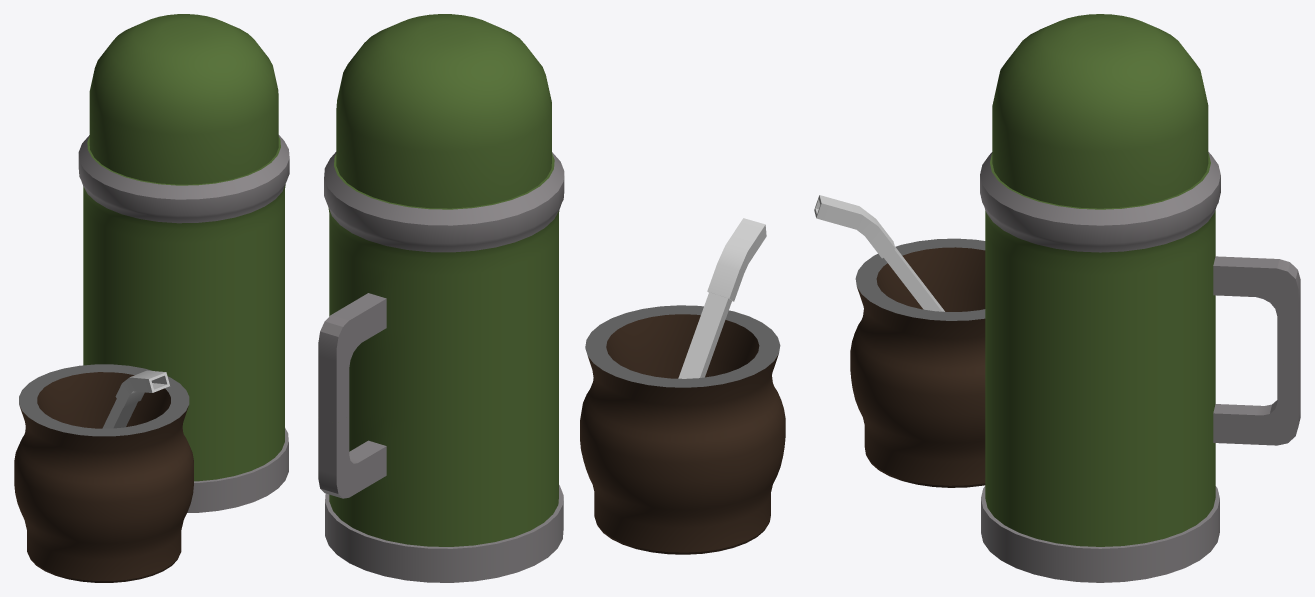
File: Termo y mate.fbx
3 renders of one model, left to right at view 1: azimuth 30°, elevation 25°; view 2: azimuth 150°, elevation 25°; view 3: azimuth 270°, elevation 25°, orthographic. The views are drawn at different scales.
Parts seen in each view (by area): view 1: Mate y Termo; view 2: Mate y Termo; view 3: Mate y Termo.
Boxes of the visible parts, box(x1,y1,x2,y2) form: Mate y Termo: box(14, 14, 289, 582); Mate y Termo: box(318, 14, 785, 582); Mate y Termo: box(814, 14, 1300, 582).
Bounding box in the file's own units: 346 × 461 × 407.
